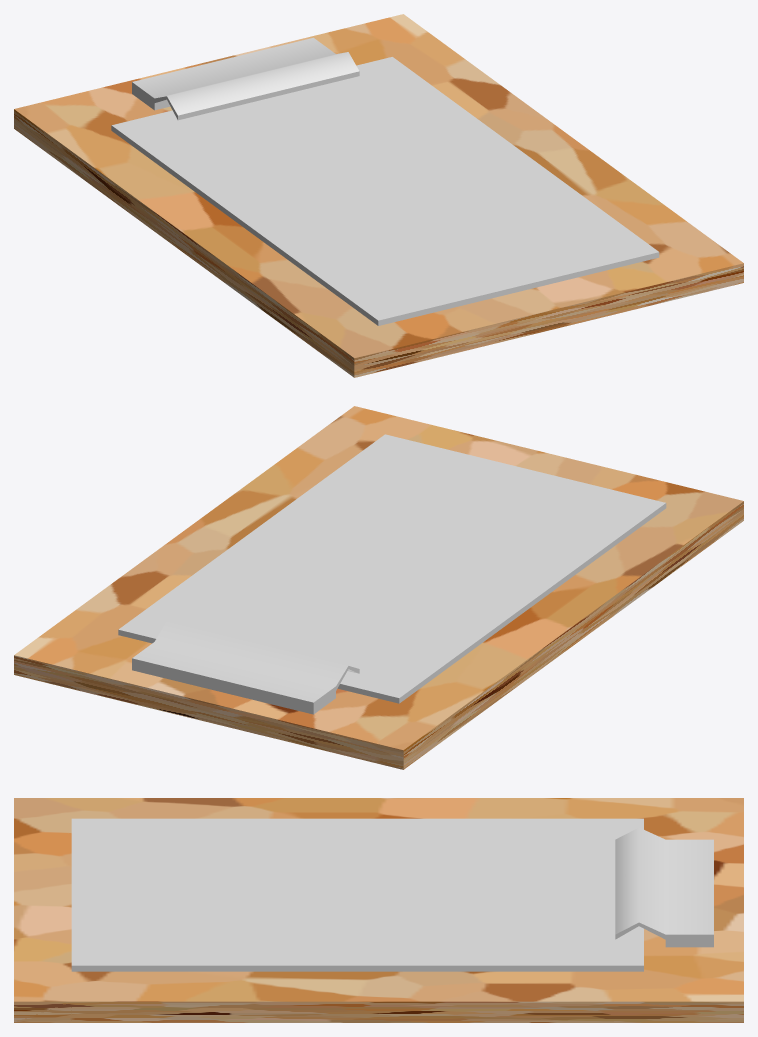
The model's file is Clipboard.fbx.
The picture shows the model from 3 angles, top to bottom: view 1: azimuth 30°, elevation 25°; view 2: azimuth 150°, elevation 25°; view 3: azimuth 270°, elevation 25°; orthographic projection. The views are drawn at different scales.
Parts seen in each view (by area): view 1: pCube1, pCube2; view 2: pCube1, pCube2; view 3: pCube1, pCube2.
Part boxes in pixels (x1,y1,x2,y2): pCube1: (14, 14, 743, 377); pCube2: (132, 37, 359, 120); pCube1: (14, 406, 743, 769); pCube2: (132, 621, 359, 714); pCube1: (14, 798, 743, 1022); pCube2: (615, 827, 713, 947).
Bounding box in the file's own units: 0.4137 × 0.0437 × 0.6263.
Materials: 2 (1 with a texture image).
